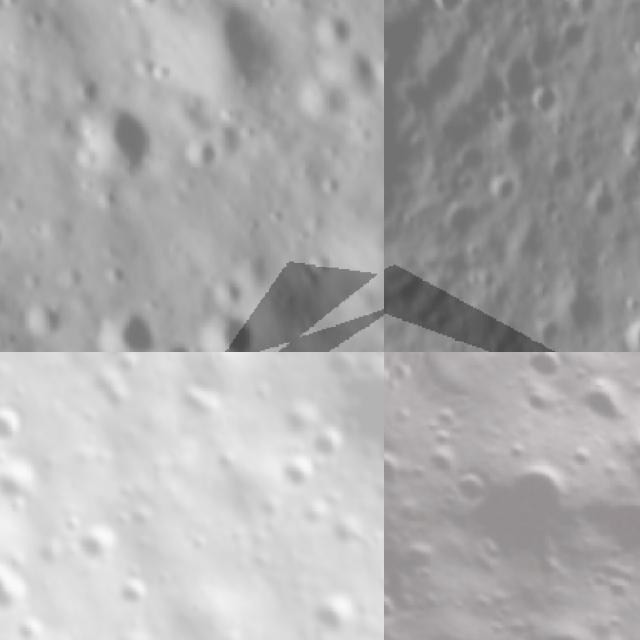crater: (147, 0, 300, 116), (48, 81, 177, 210), (484, 438, 590, 544), (302, 352, 384, 480), (322, 187, 384, 312), (284, 59, 369, 144), (77, 293, 175, 352), (1, 281, 79, 352), (322, 36, 384, 123), (568, 367, 640, 441), (384, 56, 420, 203), (296, 0, 370, 71), (61, 506, 132, 576), (188, 293, 272, 352), (290, 576, 367, 640), (170, 122, 234, 187), (0, 541, 39, 636), (111, 325, 236, 352), (511, 608, 614, 640), (0, 456, 50, 521), (559, 282, 608, 340), (100, 570, 158, 618), (514, 377, 567, 429), (443, 464, 496, 516), (492, 115, 541, 163), (524, 352, 583, 389), (384, 437, 417, 502), (0, 396, 37, 450), (501, 58, 538, 109), (0, 199, 22, 273), (580, 192, 620, 232), (115, 0, 172, 28), (440, 208, 480, 245), (384, 580, 409, 638), (4, 611, 52, 640), (544, 158, 580, 195), (485, 175, 520, 212), (553, 20, 591, 54), (526, 88, 566, 120), (522, 42, 558, 75), (610, 97, 640, 130), (428, 0, 465, 24), (532, 319, 558, 352), (568, 0, 601, 23), (619, 316, 640, 352), (627, 128, 640, 166)
